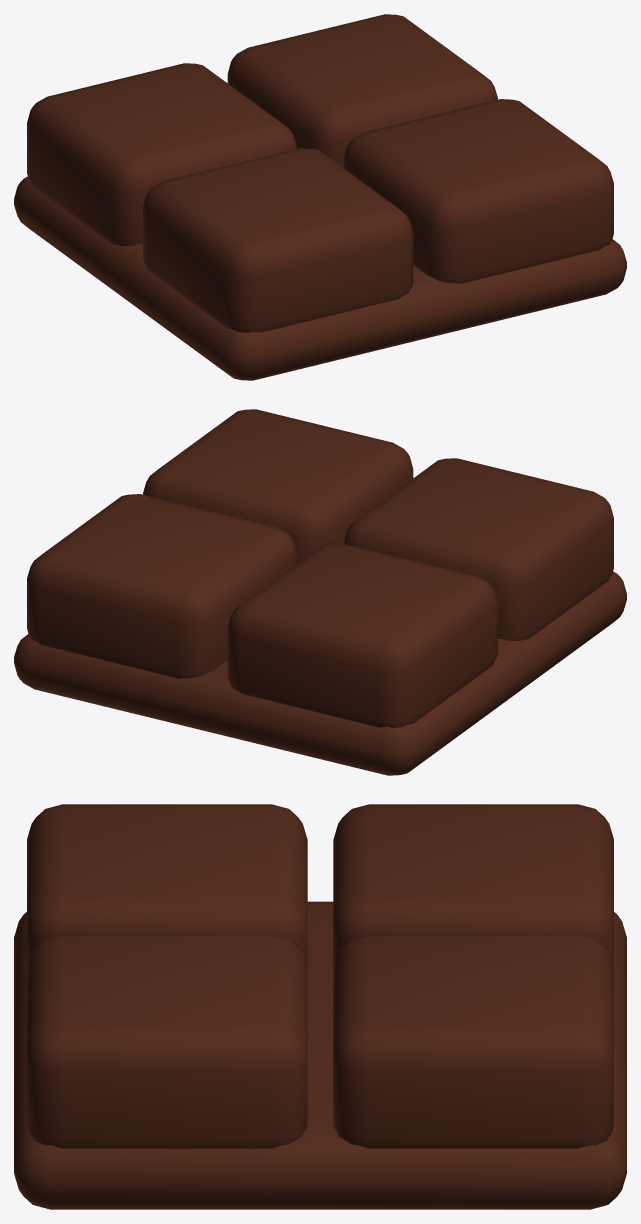
Rendered from Item_Chocolate.fbx.
The picture shows the model from 3 angles, top to bottom: view 1: azimuth 30°, elevation 25°; view 2: azimuth 150°, elevation 25°; view 3: azimuth 270°, elevation 25°; orthographic projection. The views are drawn at different scales.
Visible parts, largest first — view 1: Day_Chocolate.001; view 2: Day_Chocolate.001; view 3: Day_Chocolate.001.
Boxes of the visible parts, x1,y1,x2,y2 form: Day_Chocolate.001: (14,14,626,380); Day_Chocolate.001: (14,409,626,775); Day_Chocolate.001: (14,804,626,1209).
Size of the model in its own units: 47.04 by 14.85 by 47.04.
